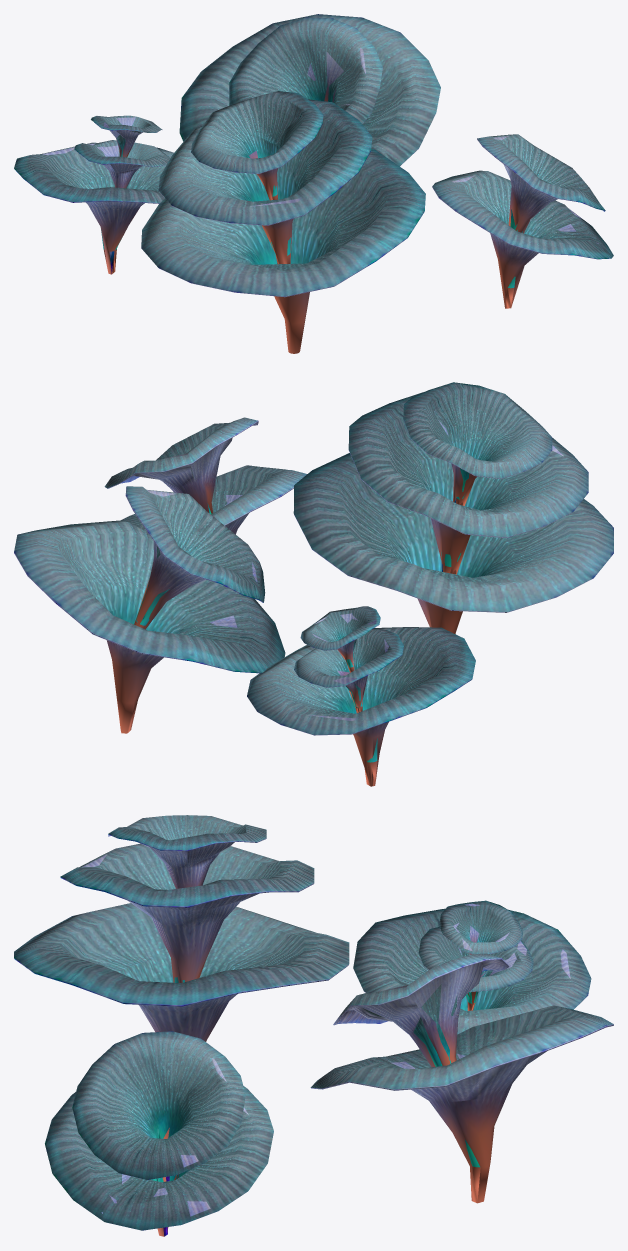
Rendered from Demo_hua01.FBX.
The picture shows the model from 3 angles, top to bottom: view 1: azimuth 30°, elevation 25°; view 2: azimuth 150°, elevation 25°; view 3: azimuth 270°, elevation 25°; orthographic projection. The views are drawn at different scales.
Parts seen in each view (by area): view 1: Demo_hua01; view 2: Demo_hua01; view 3: Demo_hua01.
Boxes of the visible parts, bbox=[...] form: Demo_hua01: bbox=[14, 14, 613, 353]; Demo_hua01: bbox=[14, 382, 613, 786]; Demo_hua01: bbox=[14, 815, 613, 1236].
Size of the model in its own units: 5.52 by 2.93 by 5.59.
